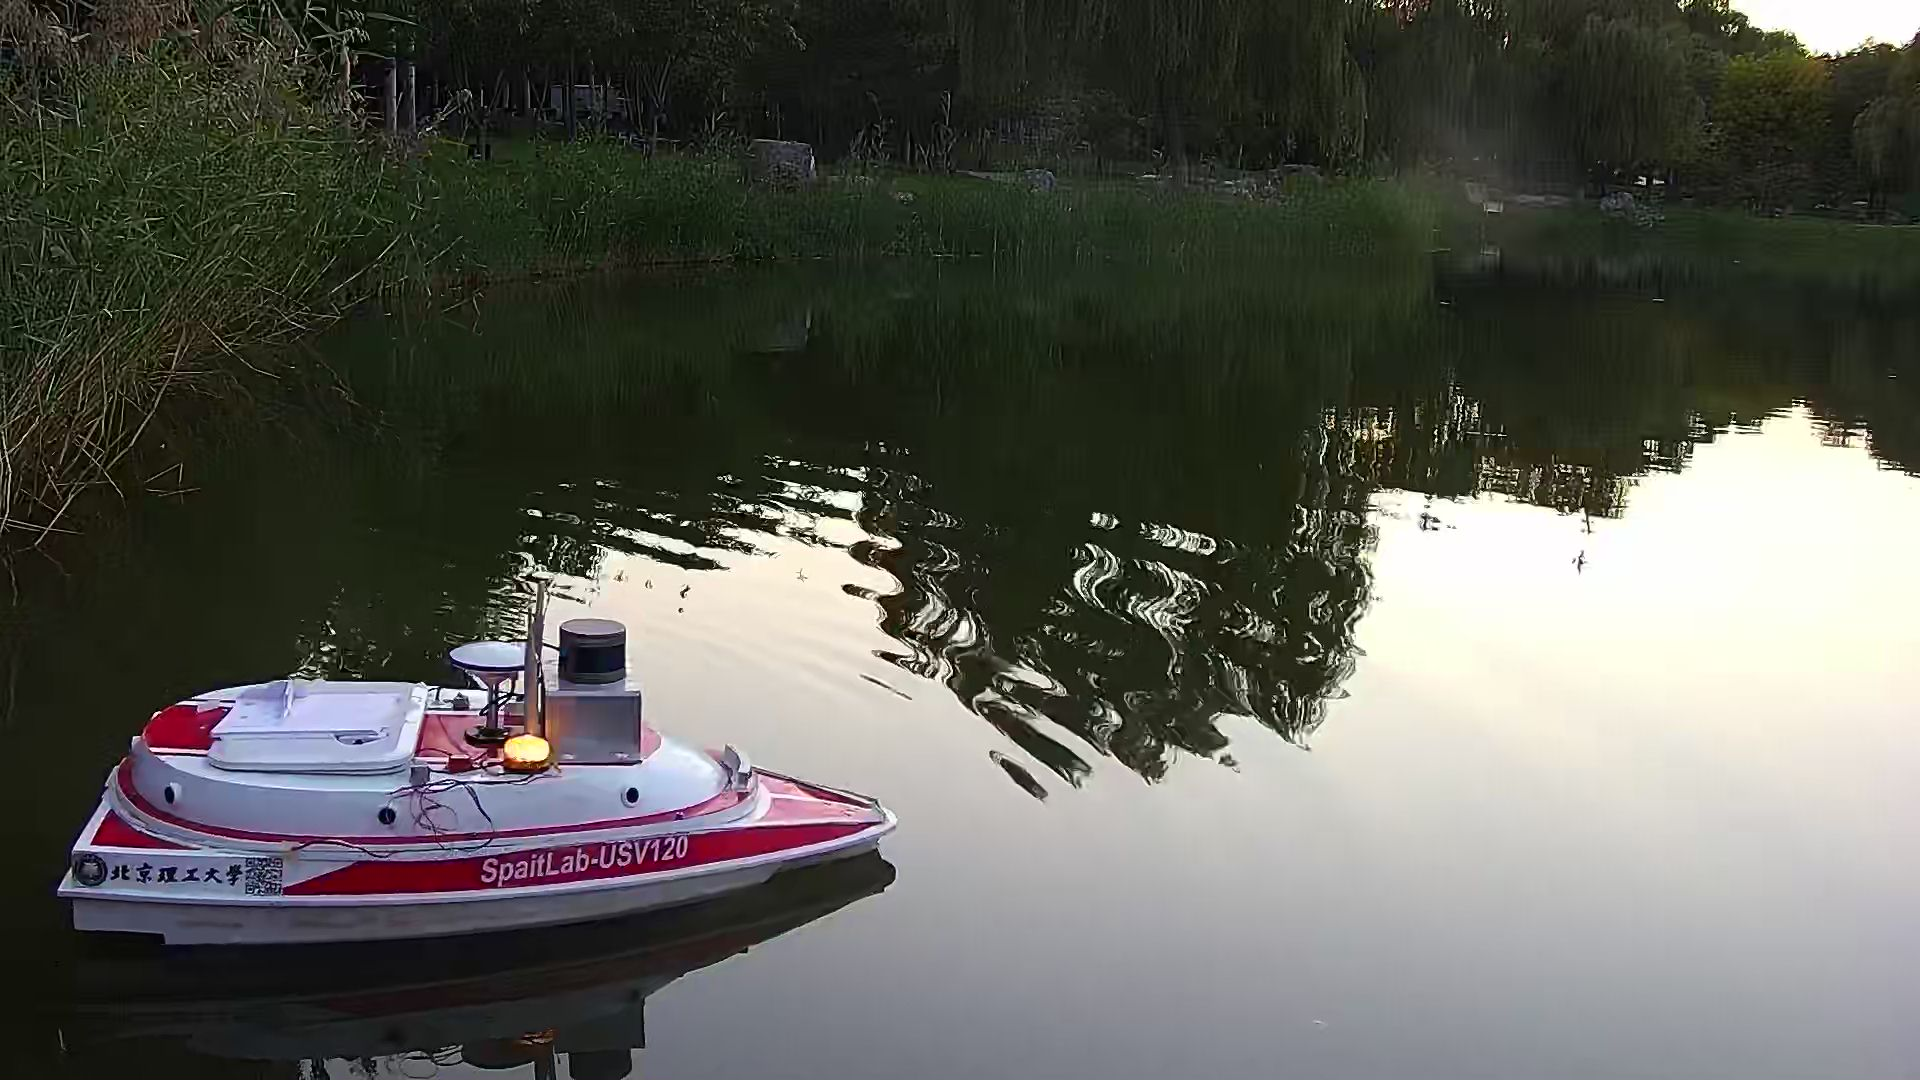boat: (42, 637, 922, 975)
